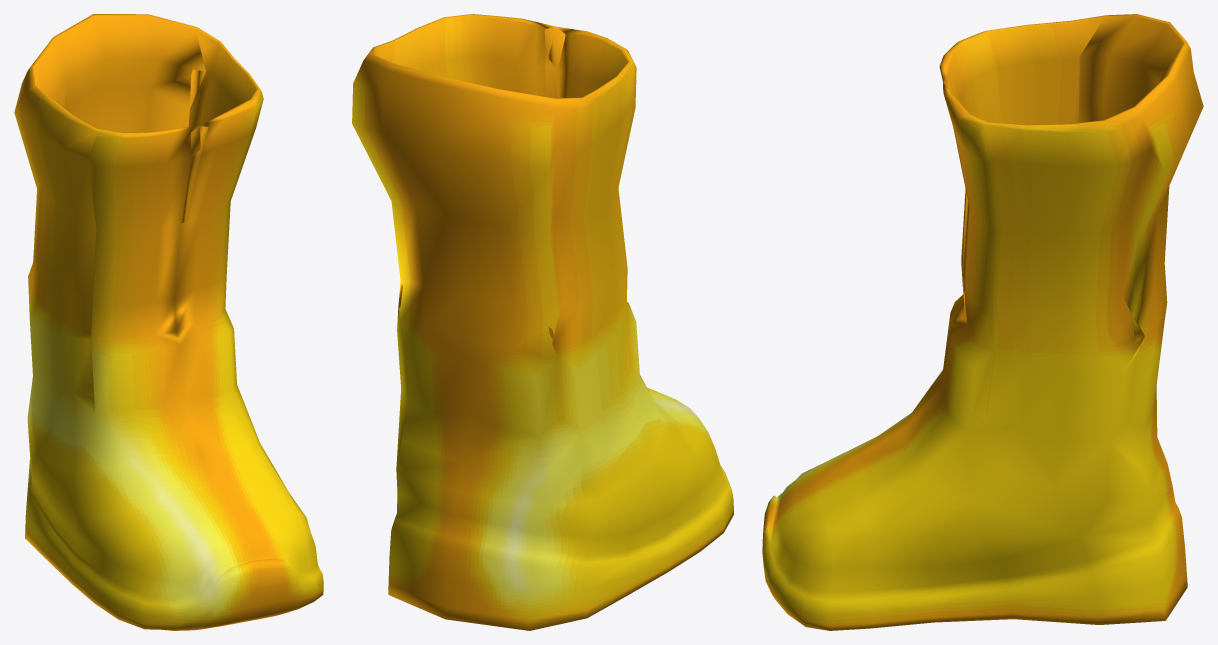
Rendered from rubberBoot.FBX.
The picture shows the model from 3 angles, left to right: view 1: azimuth 30°, elevation 25°; view 2: azimuth 150°, elevation 25°; view 3: azimuth 270°, elevation 25°; orthographic projection. The views are drawn at different scales.
Visible parts, largest first — view 1: shoe_R; view 2: shoe_R; view 3: shoe_R.
Part boxes in pixels (bbox=[...]): shoe_R: bbox=[14, 14, 323, 630]; shoe_R: bbox=[352, 14, 733, 630]; shoe_R: bbox=[762, 14, 1203, 630].
Size of the model in its own units: 13.09 by 28.5 by 20.62.
1 material, 1 textured.
